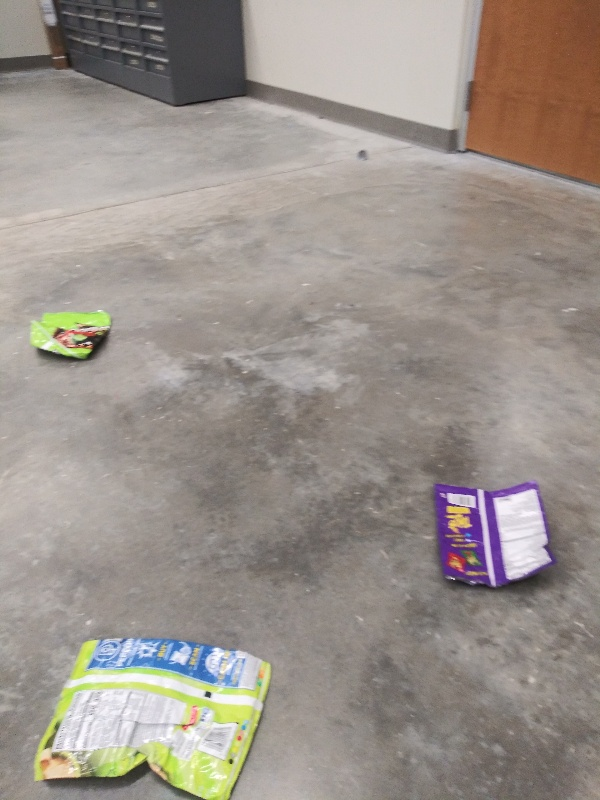bag: (31, 630, 276, 800), (427, 475, 563, 591), (29, 306, 113, 363)
